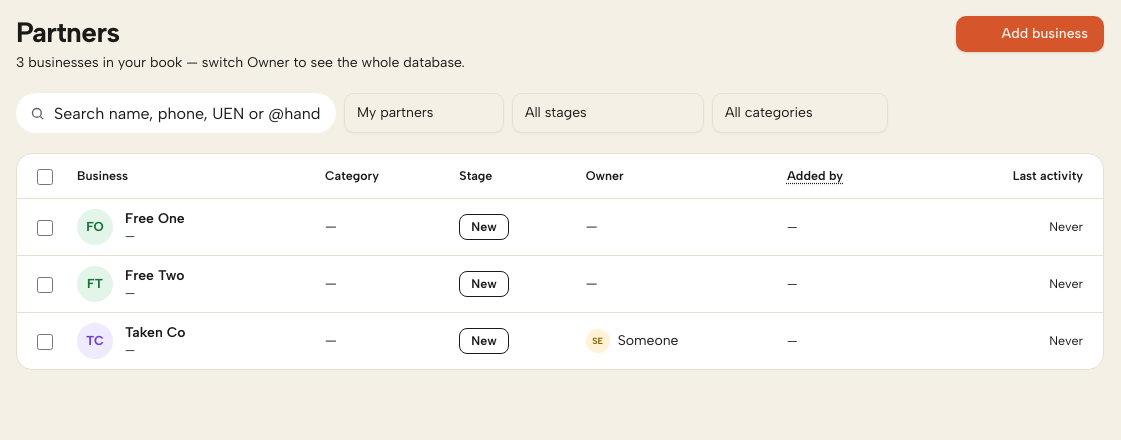
it: every live row is selectable, but Claim counts only the unowned ones
Expected: the checkbox named "Select Taken Co" is enabled, [37, 334, 53, 350]
Click the checkbox named "Select all on this page" at (45,177), box [37, 169, 53, 185]
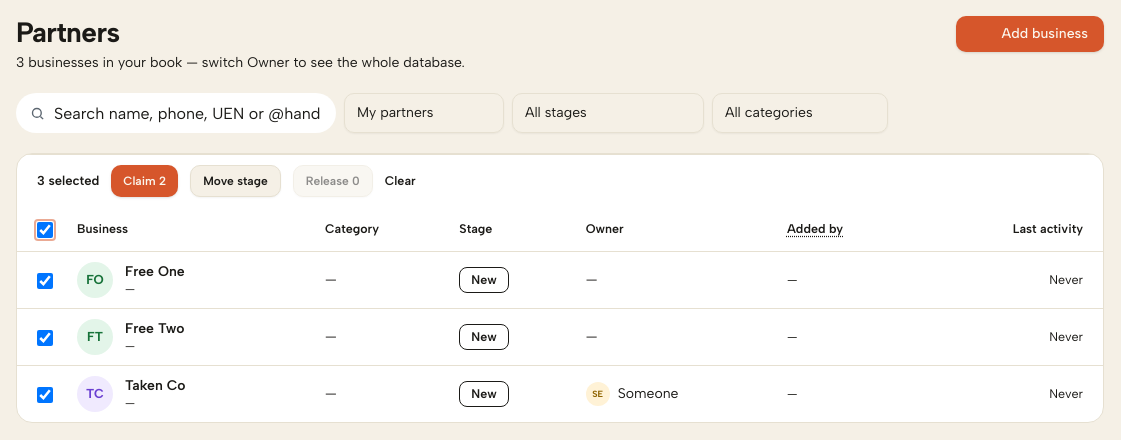
Now the text "3" is shown, box [37, 173, 45, 188]
Now the button "Claim 2" is enabled, box [111, 165, 178, 197]
